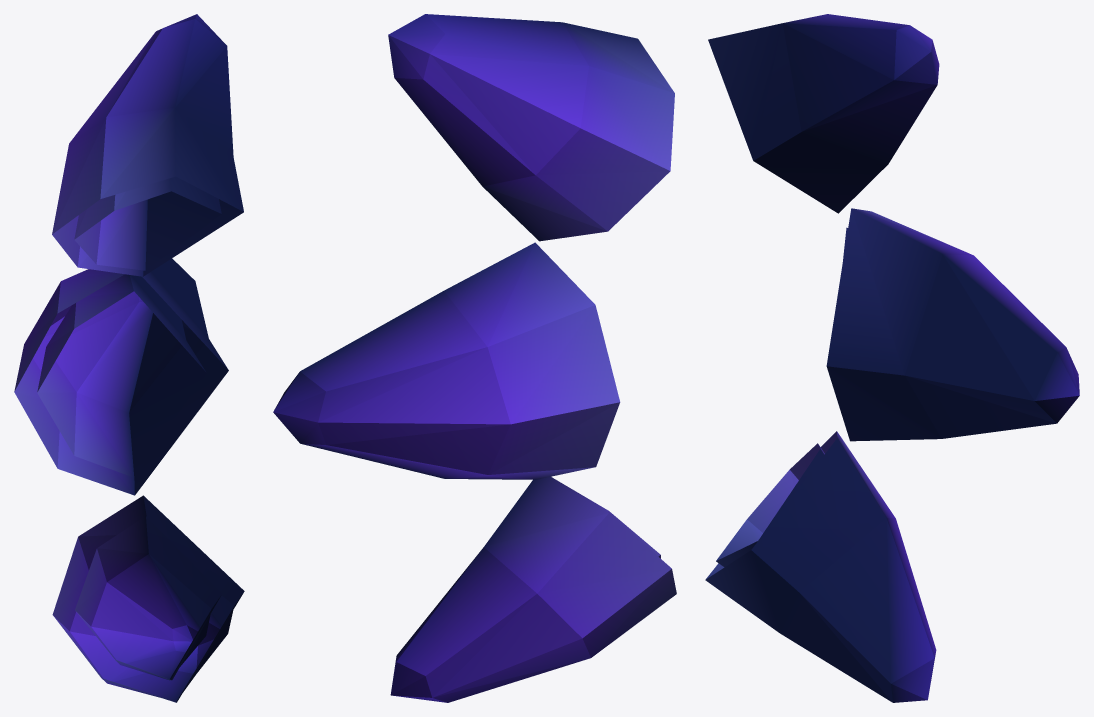
File: pref_fx_Absol_spell01B_buff01_2_lv1.fbx
3 views of the same model, side by side, from view 1: azimuth 30°, elevation 25°; view 2: azimuth 150°, elevation 25°; view 3: azimuth 270°, elevation 25° (orthographic). The views are drawn at different scales.
Visible parts, largest first — view 1: 0359_nail_01_zx_B, 0359_nail_01_zx_A; view 2: 0359_nail_01_zx_B; view 3: 0359_nail_01_zx_B, 0359_nail_01_zx_A.
Part boxes in pixels (<box>): 0359_nail_01_zx_B: <box>14,14,244,702</box>; 0359_nail_01_zx_A: <box>37,176,221,680</box>; 0359_nail_01_zx_B: <box>273,14,676,702</box>; 0359_nail_01_zx_B: <box>705,14,1079,702</box>; 0359_nail_01_zx_A: <box>716,227,847,567</box>.
Size of the model in its own units: 0.1159 by 0.2827 by 0.1426.
